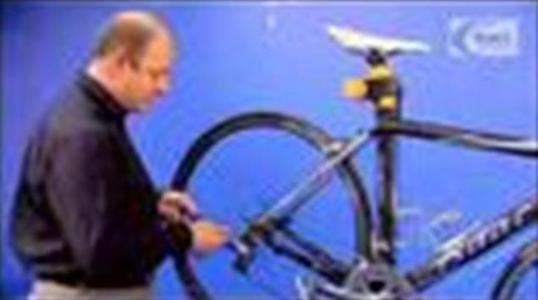person: (11, 11, 234, 300)
